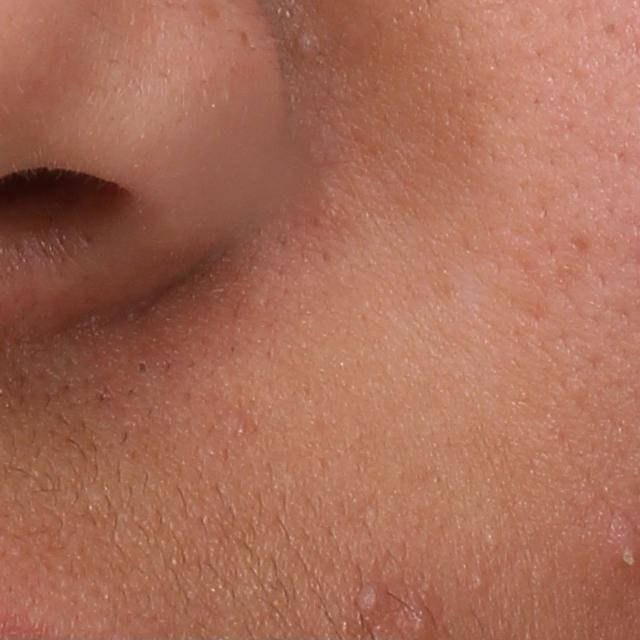comedo: (293, 34, 321, 61), (471, 570, 491, 591)
